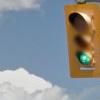Traffic light: (57, 3, 100, 82)
